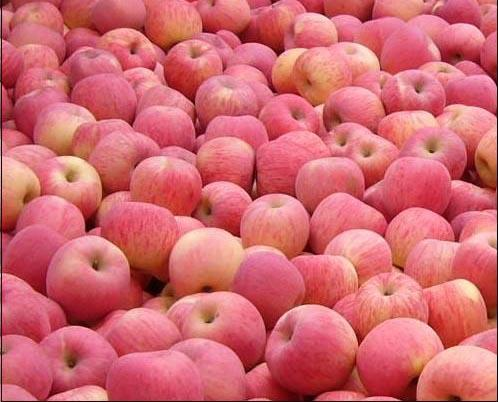apple: (45, 233, 135, 323), (92, 195, 184, 283), (266, 302, 356, 391), (354, 315, 442, 396), (181, 290, 267, 369), (165, 226, 243, 299), (106, 347, 207, 401), (37, 322, 118, 388), (232, 252, 305, 321), (308, 192, 386, 251), (128, 155, 202, 217), (355, 271, 429, 329), (423, 277, 488, 343), (383, 154, 450, 216), (240, 194, 309, 254), (38, 155, 102, 219), (386, 205, 456, 263), (295, 154, 365, 205), (289, 254, 360, 304), (193, 136, 254, 190), (255, 141, 315, 195), (194, 73, 259, 122), (69, 73, 133, 121), (380, 69, 445, 116), (142, 1, 202, 50), (1, 157, 40, 231), (293, 46, 351, 95), (131, 103, 194, 146), (375, 109, 437, 150), (34, 104, 96, 143), (263, 94, 320, 133)
